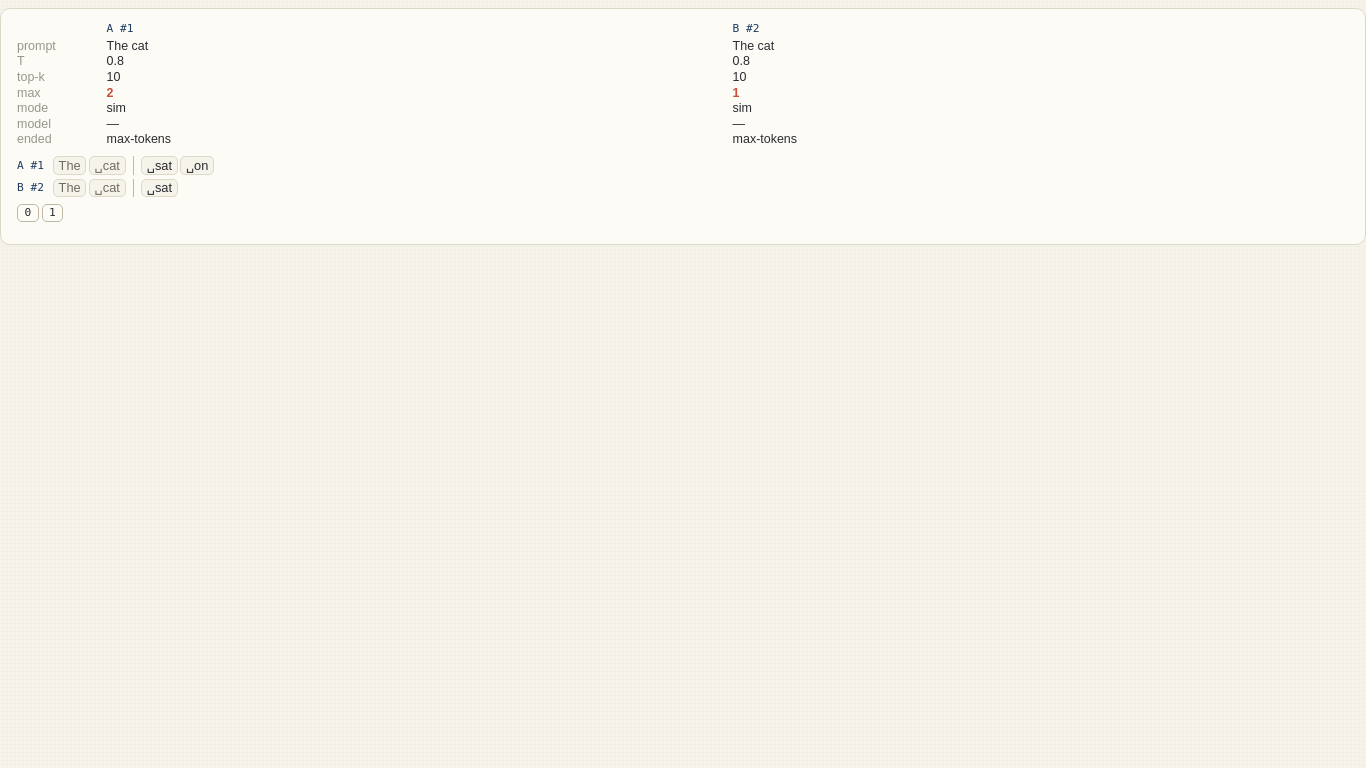
Test: a cycle past one run's end shows the run-ended side
This screenshot has width=1366, height=768.
Click the button with test id "cmp-tick" showing "1": (52, 213) [42,204,63,222]
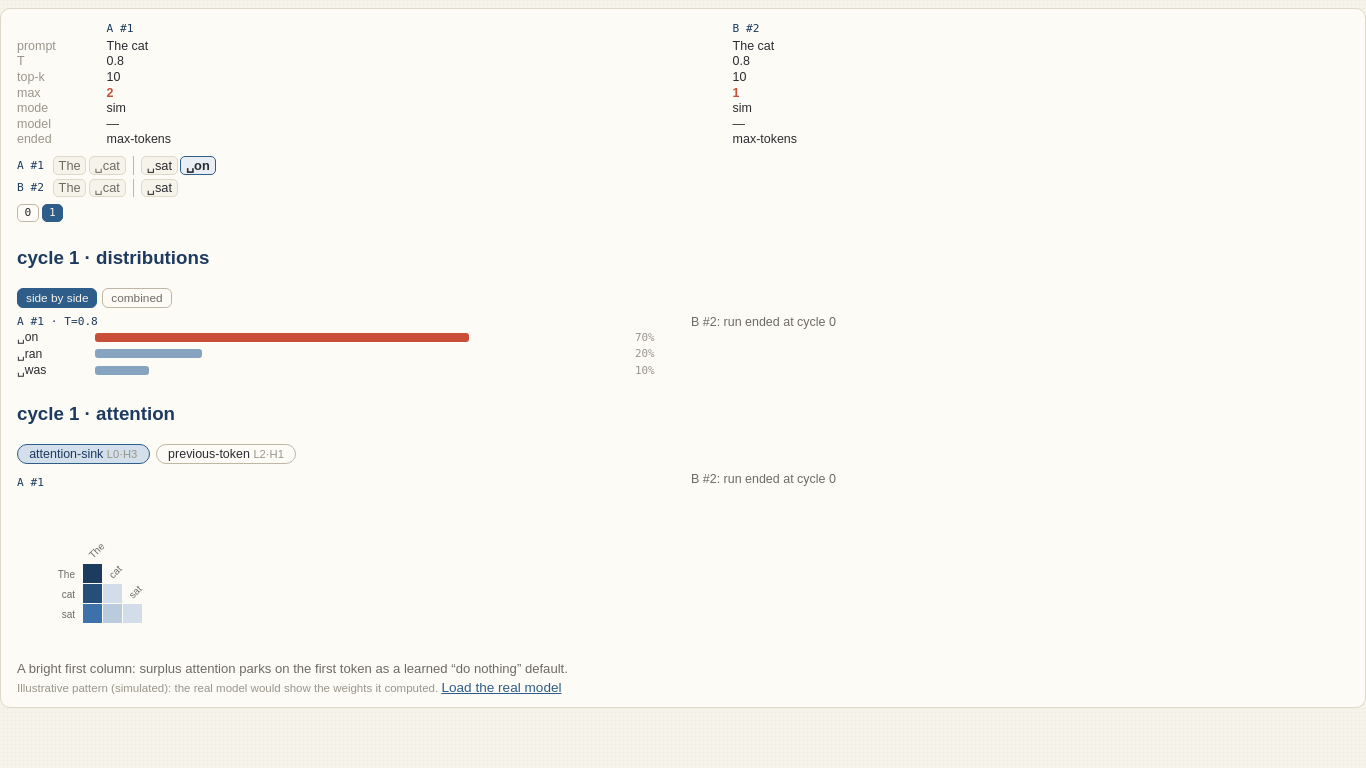
Expected: the text with test id "cmp-ended" in the row of "· T=" shows "run ended at cycle 0", [691,315,836,329]
